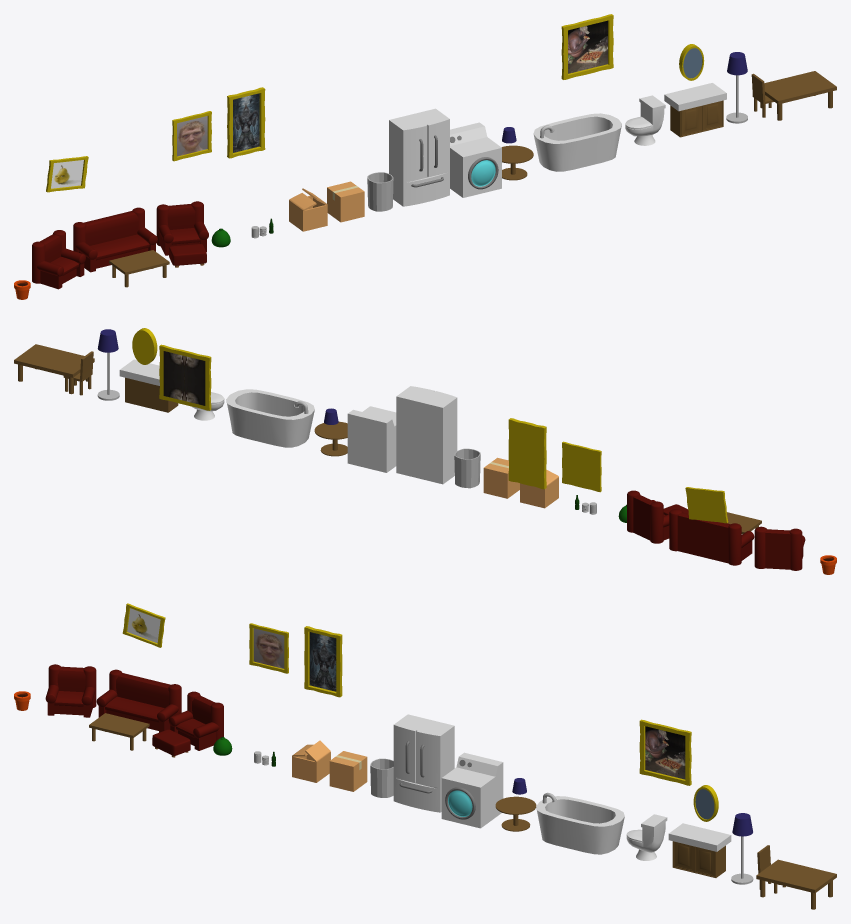
The model's file is PropExports.fbx.
3 renders of one model, top to bottom at view 1: azimuth 30°, elevation 25°; view 2: azimuth 150°, elevation 25°; view 3: azimuth 330°, elevation 25°, orthographic.
Visible parts, largest first — view 1: Cube.022, BathTub-col, Plane, Cube.043, Cube.054, Cube.002, Plane.003, Plane.002, Cube.040, Cube.001, Cube.046, Cube (+10 smaller); view 2: Cube.022, BathTub-col, Plane, Cube.043, Cube.054, Cube.002, Plane.003, Plane.002, Cube.001, Cube.040, Cube.007, Cube.046 (+8 smaller); view 3: Cube.022, BathTub-col, Cube.043, Plane, Cube.054, Cube.002, Plane.003, Plane.002, Cube.040, Cube.001, Cube.046, Cube (+10 smaller).
Part boxes in pixels (x1,y1,x2,y2): Cube.022: (389,108,449,206); BathTub-col: (533,113,621,171); Plane: (73,207,157,272); Cube.043: (450,122,501,197); Cube.054: (561,14,613,79); Cube.002: (227,87,265,158); Plane.003: (32,230,85,289); Plane.002: (156,201,208,255); Cube.040: (760,71,836,120); Cube.001: (172,111,211,161); Cube.046: (670,100,723,137); Cube: (327,181,364,222); Cube.022: (396,386,457,484); BathTub-col: (226,389,314,447); Plane: (669,509,754,565); Cube.043: (347,406,396,472); Cube.054: (159,344,211,410); Cube.002: (508,418,546,489); Plane.003: (754,526,805,570); Plane.002: (627,490,669,543); Cube.001: (562,441,601,492); Cube.040: (14,344,94,394); Cube.007: (685,487,728,523); Cube.046: (125,377,178,412); Cube.022: (393,714,454,812); BathTub-col: (536,792,624,854); Cube.043: (441,752,503,828); Plane: (96,669,181,732); Cube.054: (639,719,691,785); Cube.002: (304,626,342,697); Plane.003: (45,664,96,717); Plane.002: (168,691,223,750); Cube.040: (756,859,836,909); Cube.001: (249,623,288,673); Cube.046: (672,841,725,877); Cube: (329,751,367,791).
Bounding box in the file's own units: 6576 × 812 × 880.
21 materials, 4 textured.
